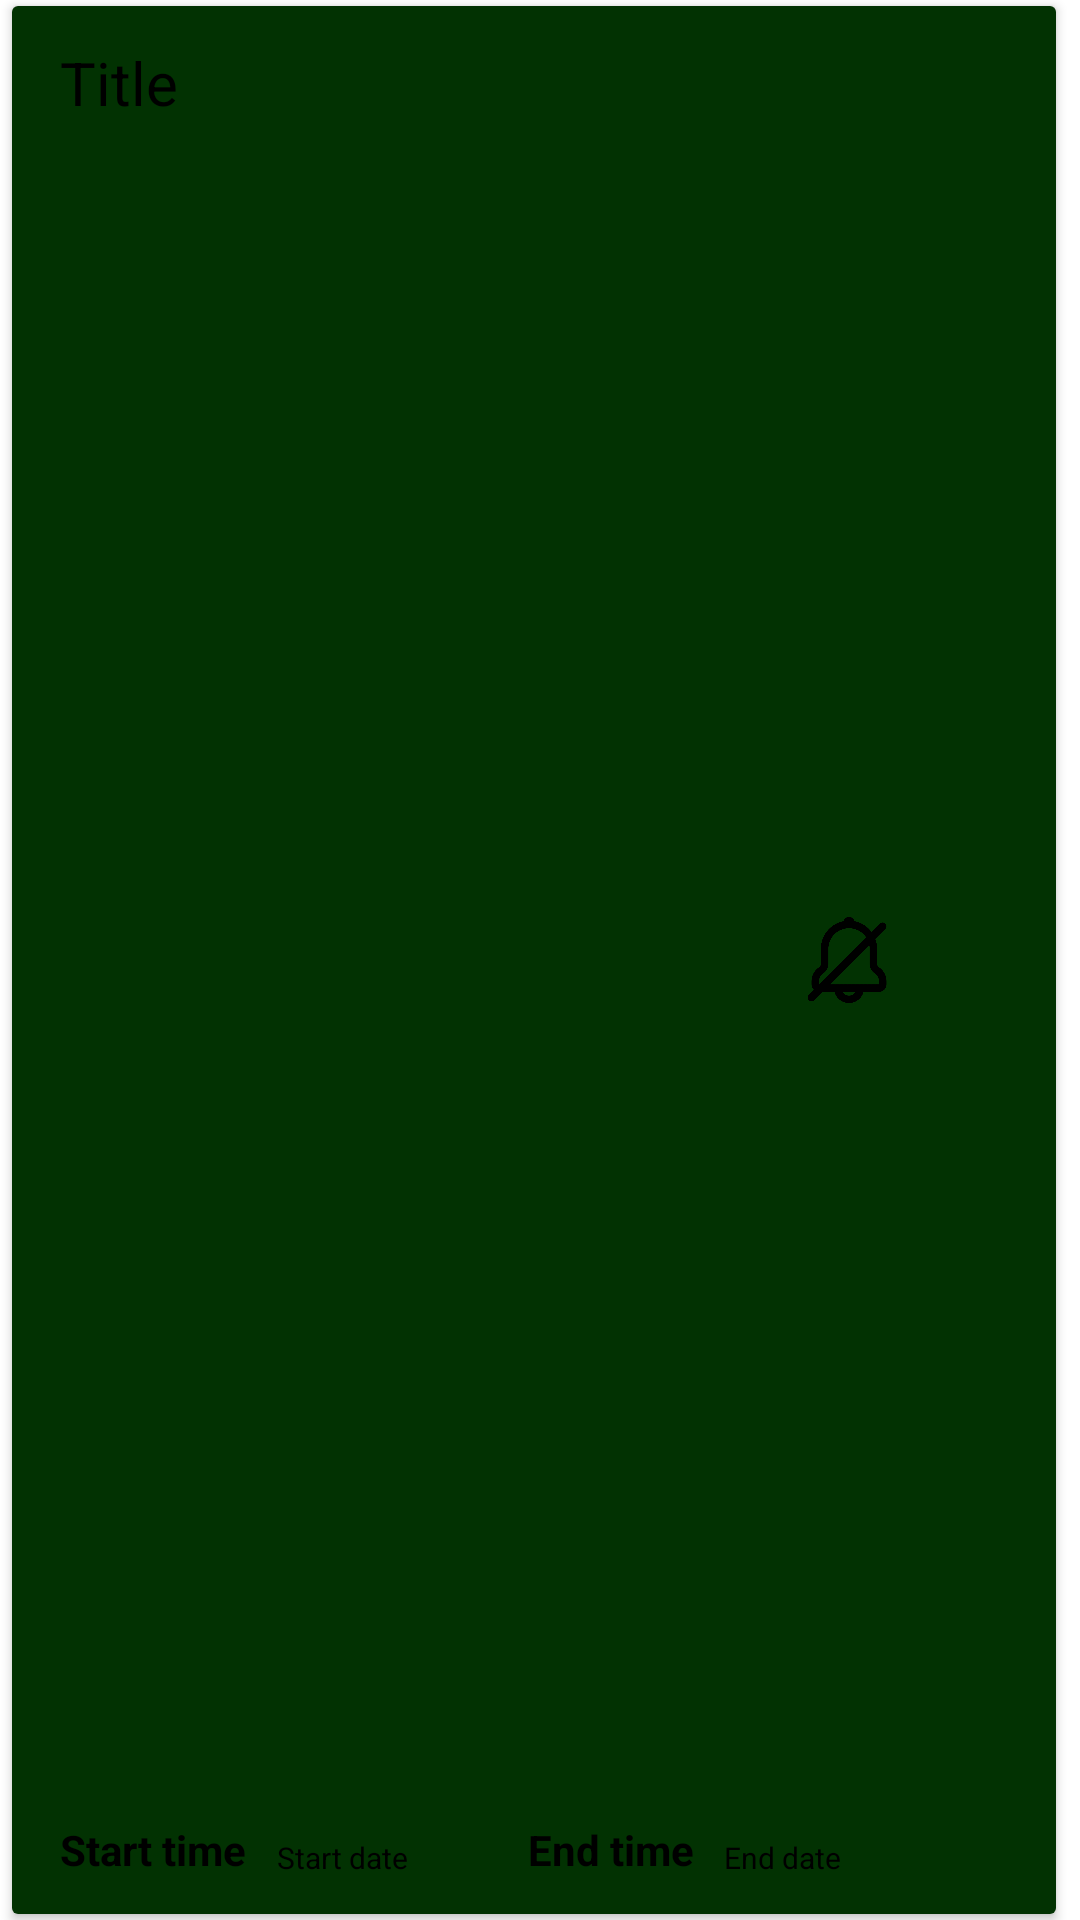

Screen size 1080px x 1920px. Icon name, then its box in pixels as (x1, y1, x2, y2):
mute: (808, 917, 886, 1003)
